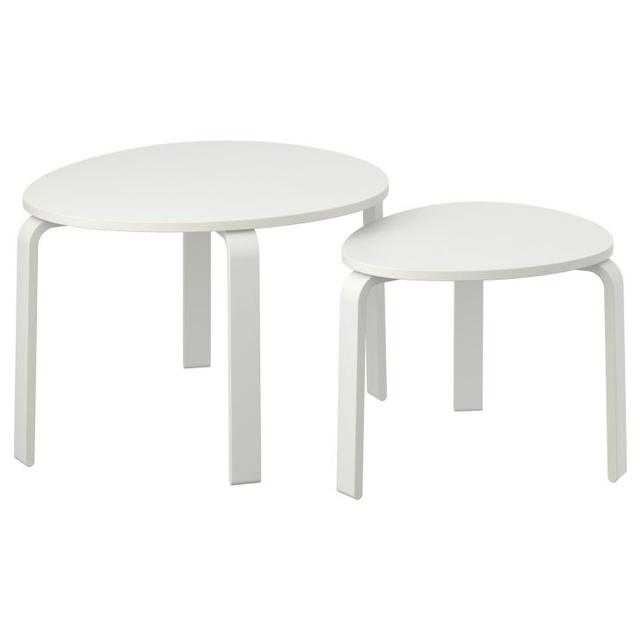obstacle: (14, 141, 387, 483), (337, 202, 625, 497)
